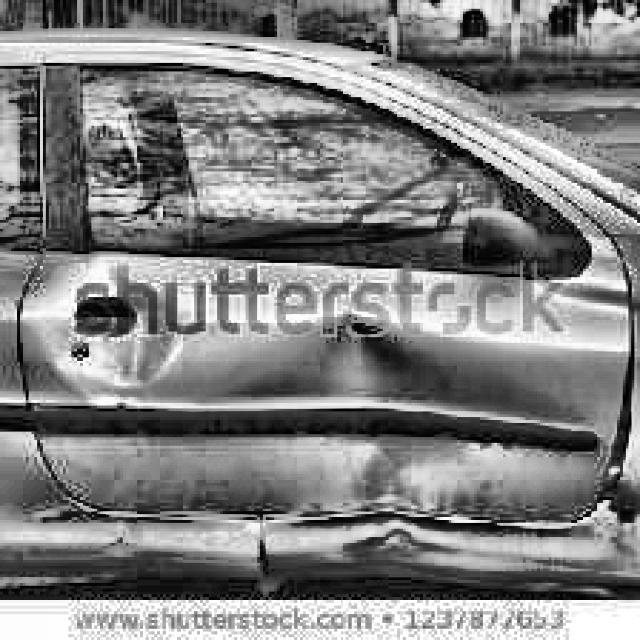door_dent: (246, 321, 564, 530), (260, 514, 575, 588), (55, 286, 178, 394)
